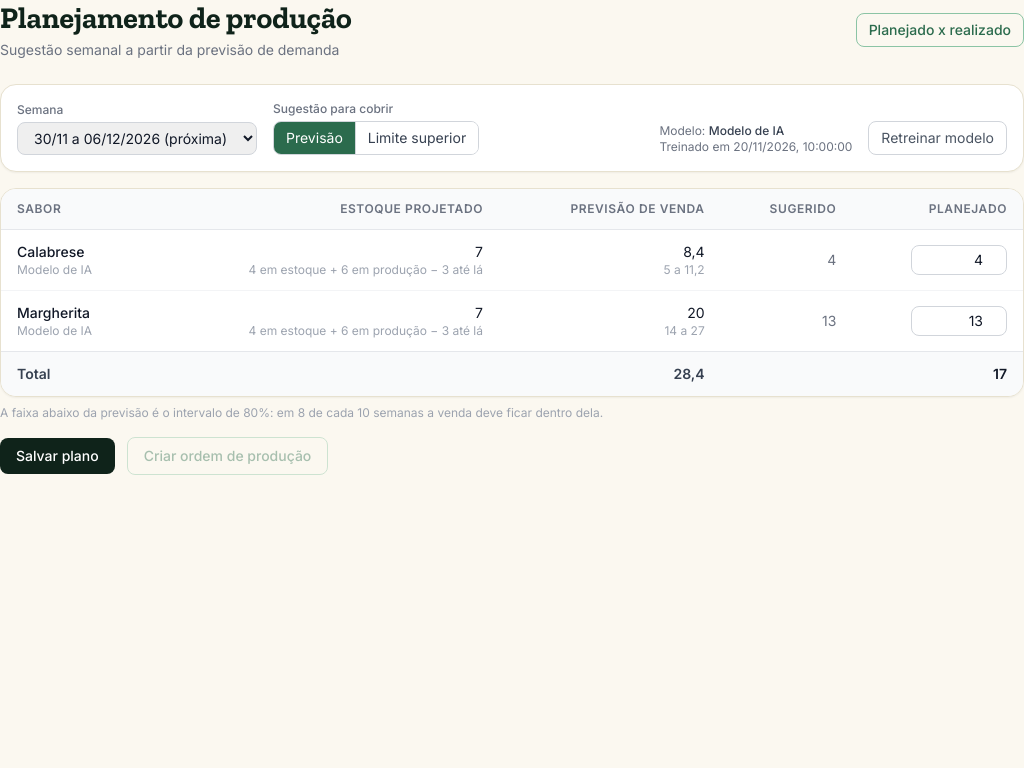
it: tela de planejamento de produção › ADMIN retreina o modelo depois de confirmar; OPERADOR não vê o botão
The image size is (1024, 768).
Later steps or results of the test are not shown.
Expected: the text "Margherita" is shown, left=17, top=304, right=90, bottom=321
Click the button "Retreinar modelo" at [938, 138], box left=868, top=121, right=1007, bottom=155
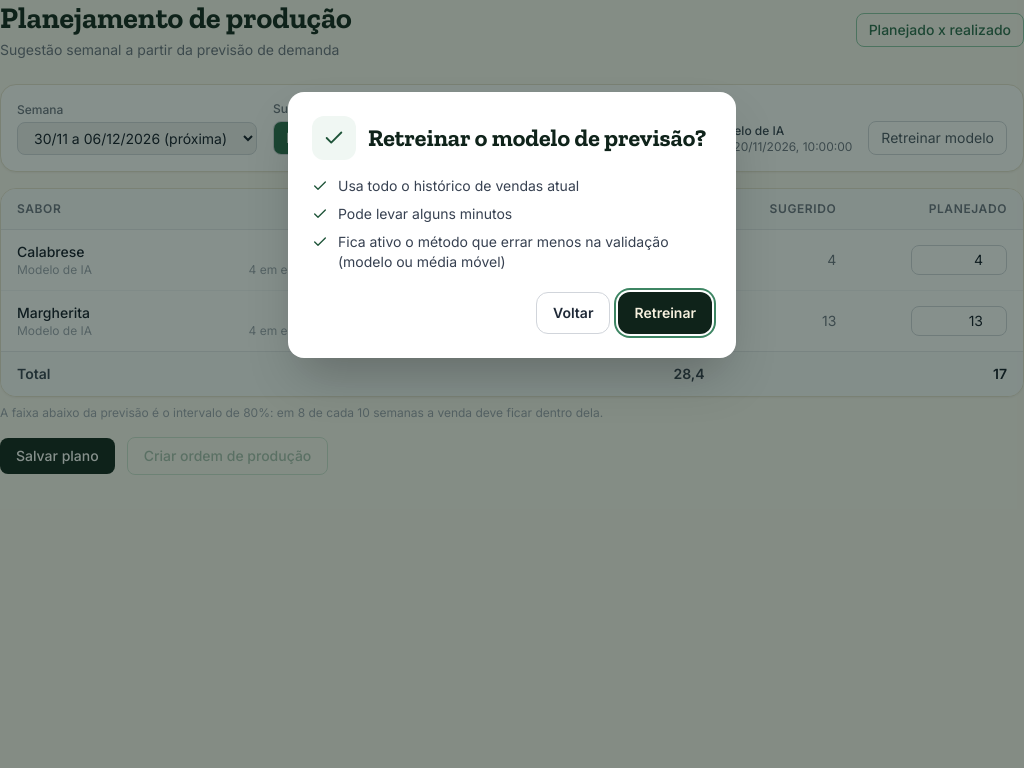
Click the button "Retreinar" at [665, 313], box left=618, top=292, right=712, bottom=334
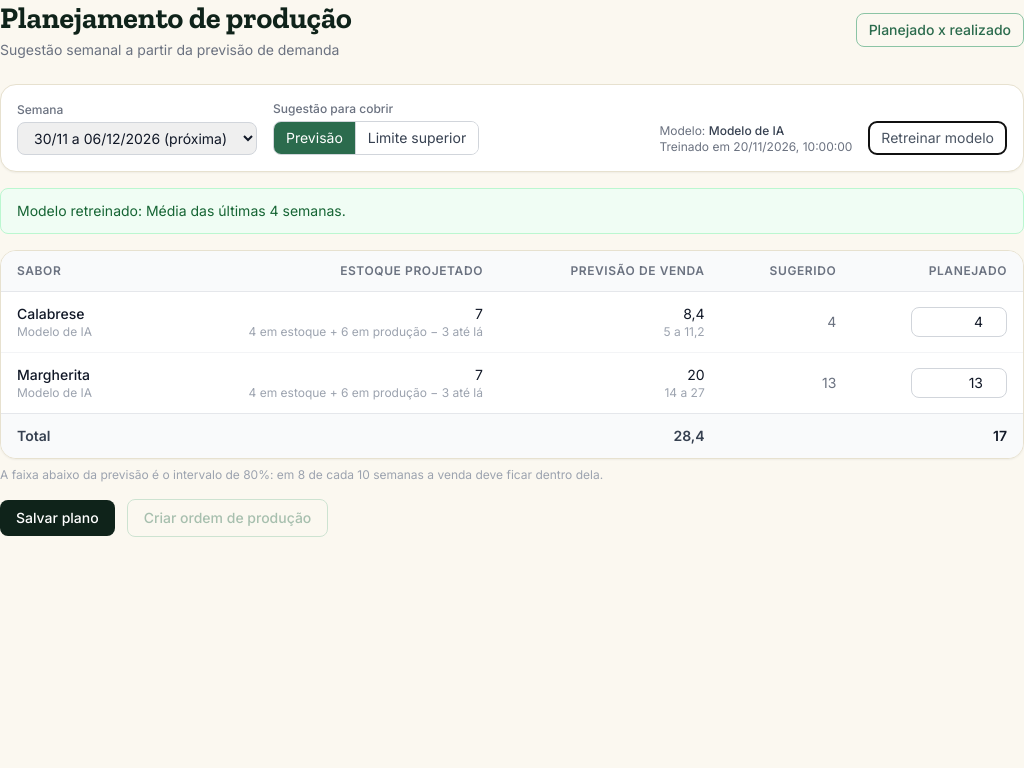
Now the text "Modelo retreinado: Média das últimas 4 semanas." is shown, box left=0, top=188, right=1023, bottom=234
